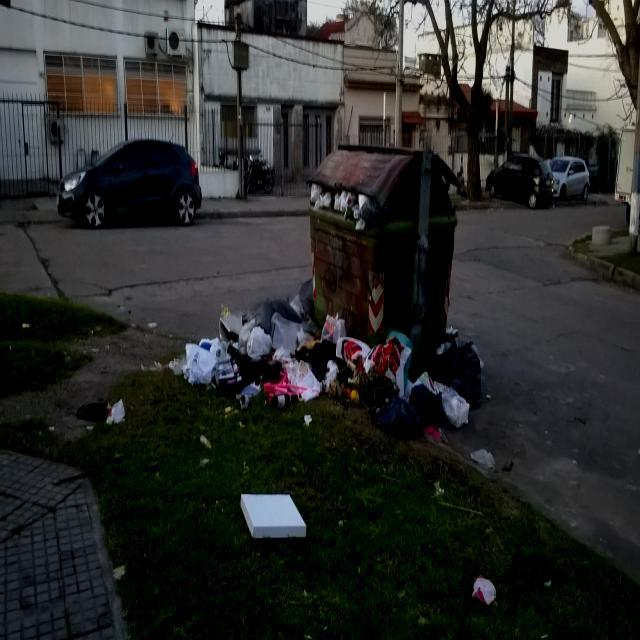high trash: (170, 280, 482, 441)
less trash: (241, 494, 306, 538), (78, 399, 125, 424), (472, 576, 496, 604)
